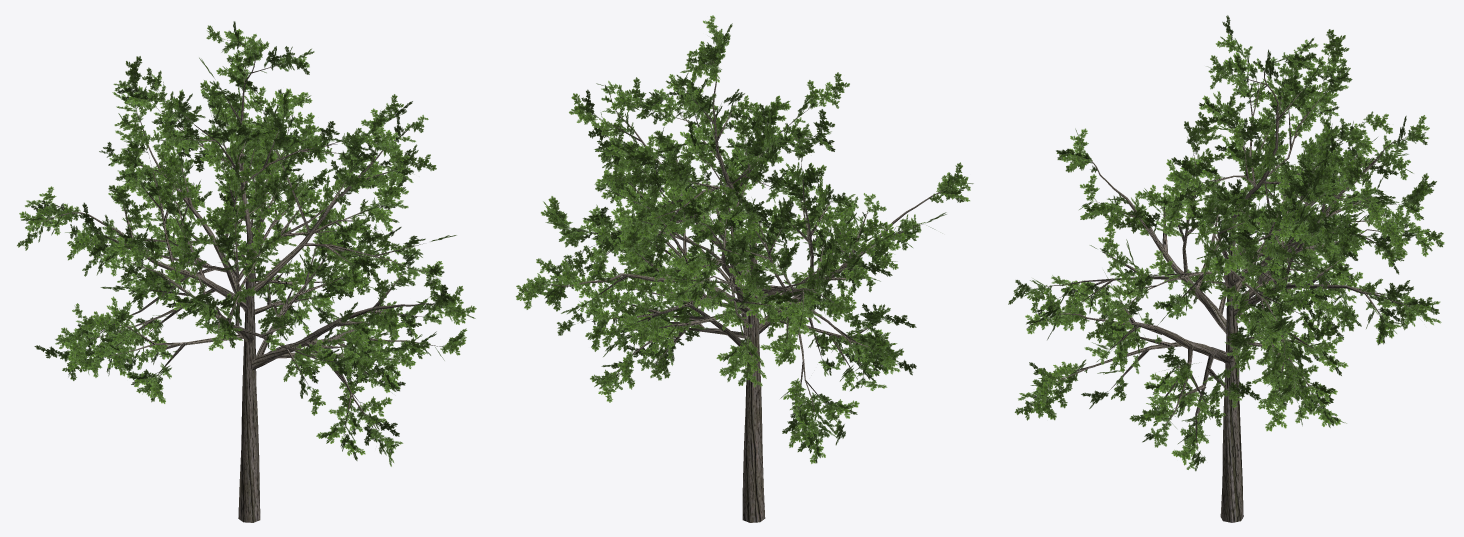
The model's file is roble_mediano.glb.
The picture shows the model from 3 angles, left to right: view 1: azimuth 30°, elevation 25°; view 2: azimuth 150°, elevation 25°; view 3: azimuth 270°, elevation 25°; orthographic projection. The views are drawn at different scales.
Parts seen in each view (by area): view 1: roble_mediano_hojas, roble_mediano_ramas; view 2: roble_mediano_hojas, roble_mediano_ramas; view 3: roble_mediano_hojas, roble_mediano_ramas.
Boxes of the visible parts, x1,y1,x2,y2 form: roble_mediano_hojas: [17, 21, 476, 466]; roble_mediano_ramas: [40, 40, 441, 522]; roble_mediano_hojas: [515, 15, 973, 463]; roble_mediano_ramas: [545, 45, 941, 522]; roble_mediano_hojas: [1008, 15, 1444, 471]; roble_mediano_ramas: [1042, 52, 1409, 522].
Size of the model in its own units: 7.59 by 9.3 by 7.71.
2 materials, 2 textured.
